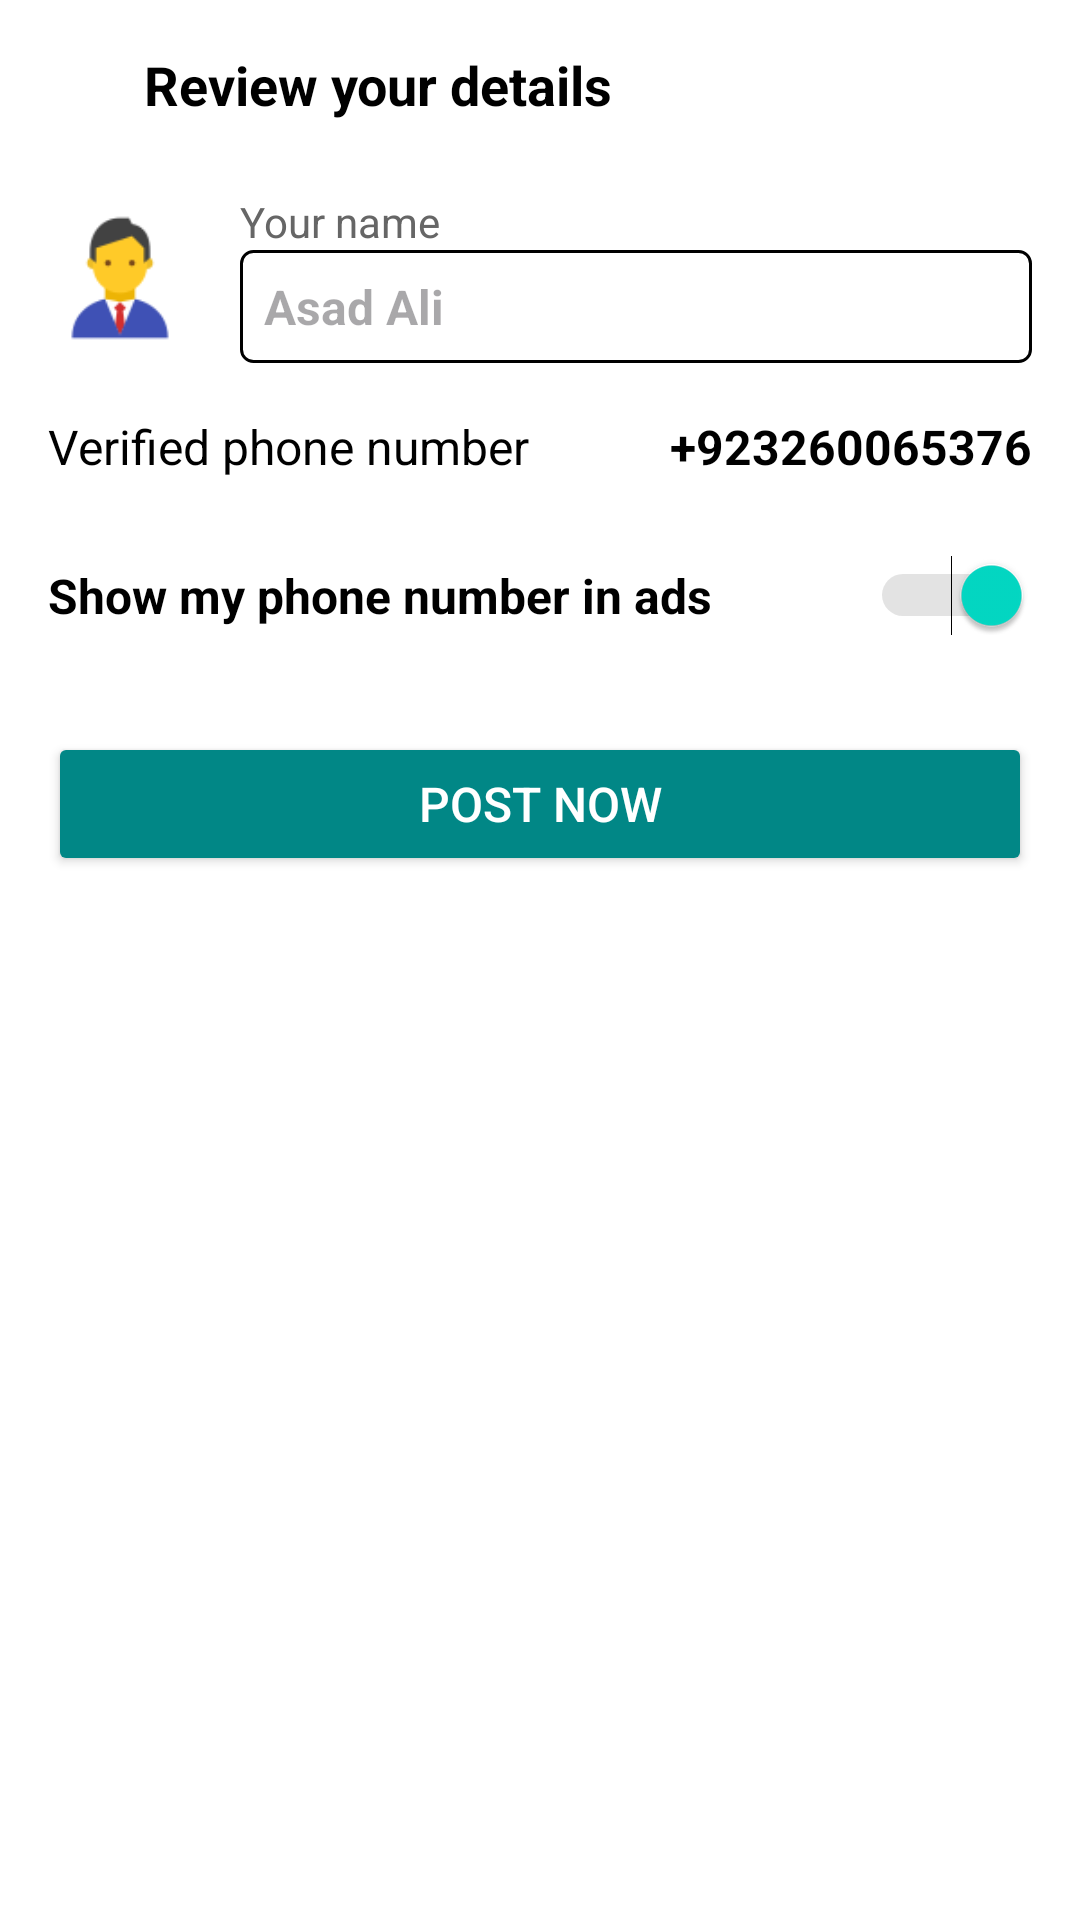

Named icons in this screenshot (1080px×1920px) and their bounding boxes, [x1=x1, y1=y1, x2=x2, y2=y2]:
User Avatar: [x1=71, y1=217, x2=169, y2=339]
